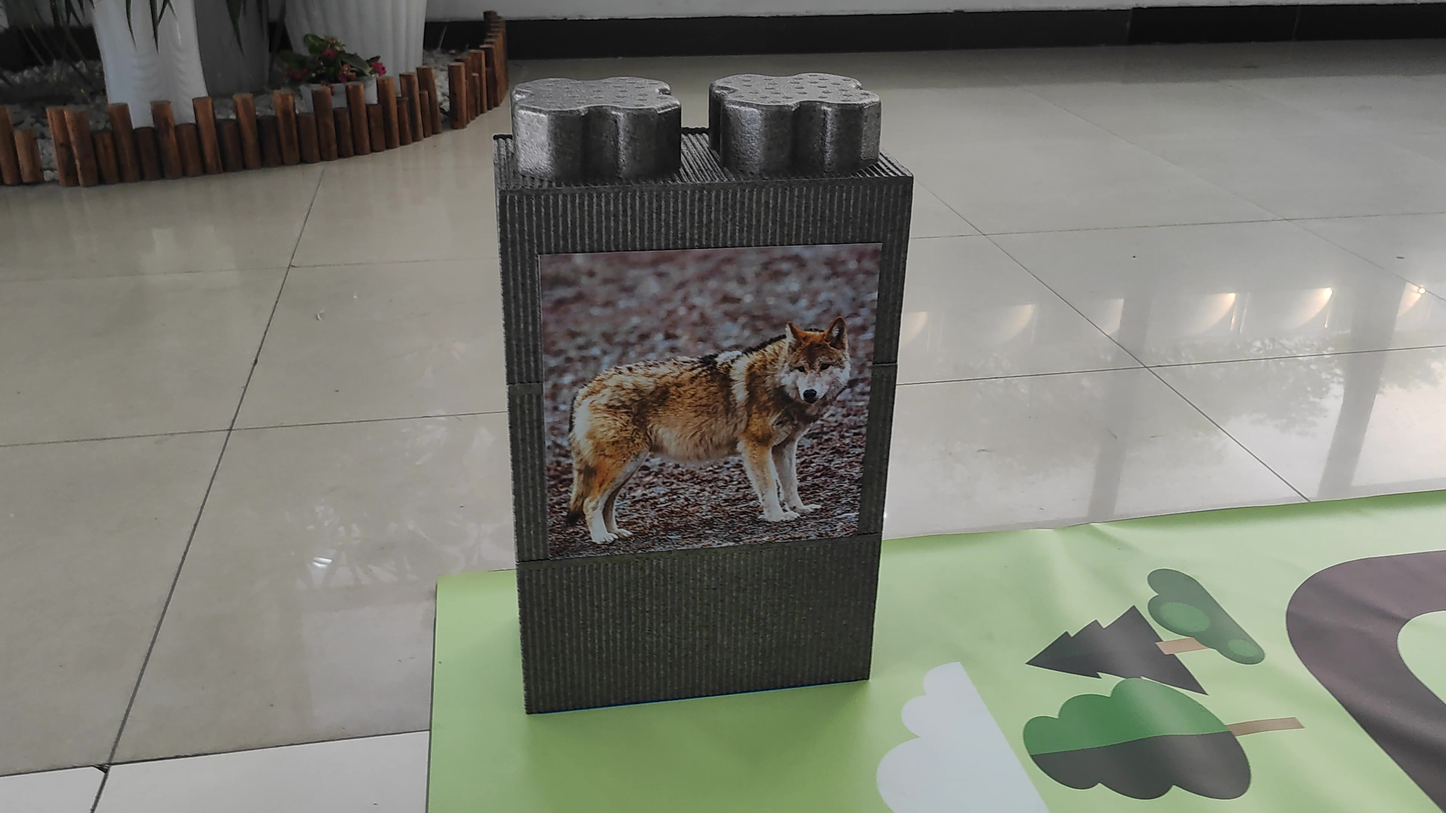wolf: (544, 287, 862, 565)
